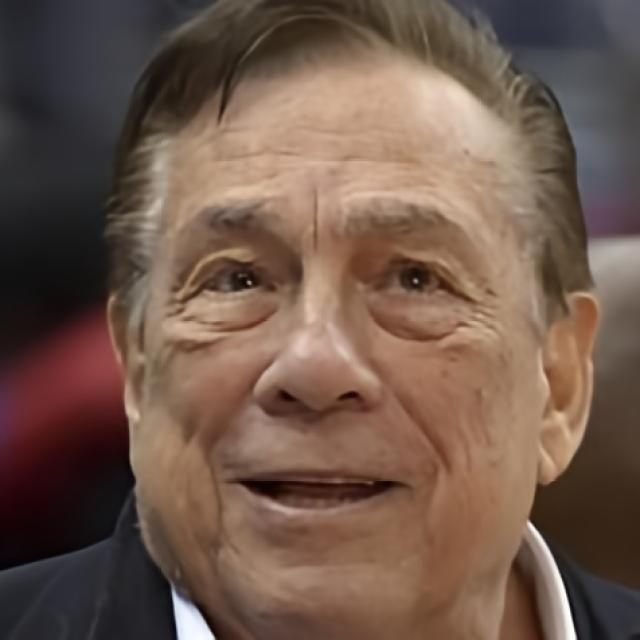surprise: (133, 66, 545, 628)
